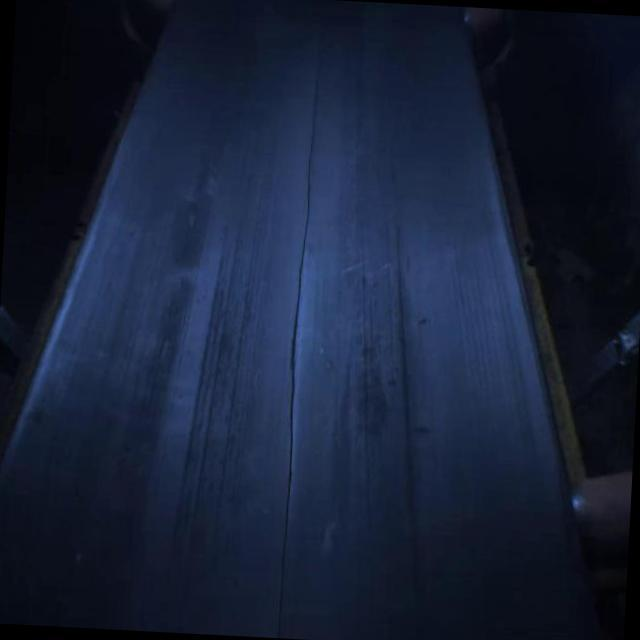Tear: (267, 38, 326, 640)
